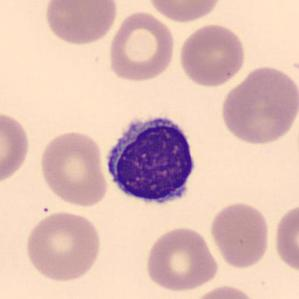Lymphocyte: (99, 108, 202, 212)
RBC: (218, 62, 298, 146), (22, 208, 104, 284), (37, 128, 110, 208), (105, 9, 177, 83), (143, 225, 221, 292), (176, 21, 248, 88), (208, 200, 272, 270), (42, 0, 120, 47), (0, 107, 32, 187), (271, 200, 299, 275), (145, 0, 224, 24), (189, 283, 260, 299)
